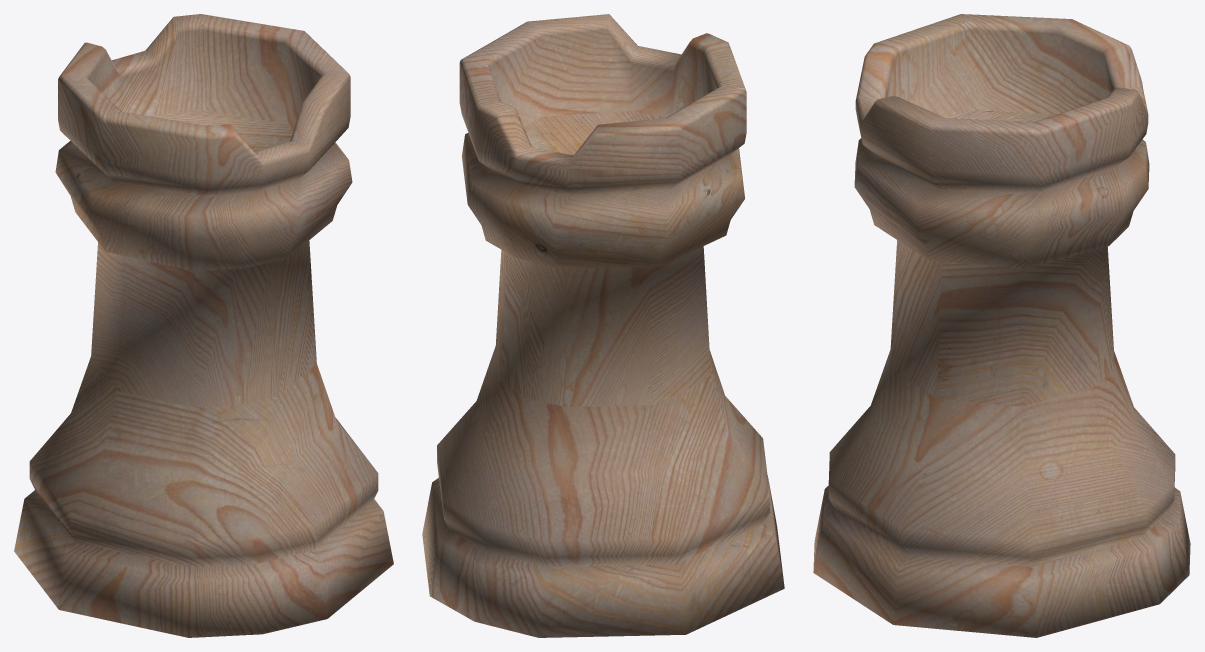
3 views of the same model, side by side, from view 1: azimuth 30°, elevation 25°; view 2: azimuth 150°, elevation 25°; view 3: azimuth 270°, elevation 25° (orthographic).
Parts seen in each view (by area): view 1: WhiteRook.001; view 2: WhiteRook.001; view 3: WhiteRook.001.
Boxes of the visible parts, box(x1,y1,x2,y2) form: WhiteRook.001: box(14, 14, 393, 637); WhiteRook.001: box(422, 14, 784, 637); WhiteRook.001: box(813, 14, 1190, 637).
Size of the model in its own units: 0.0295 by 0.042 by 0.0295.
Materials: 1 (1 with a texture image).
